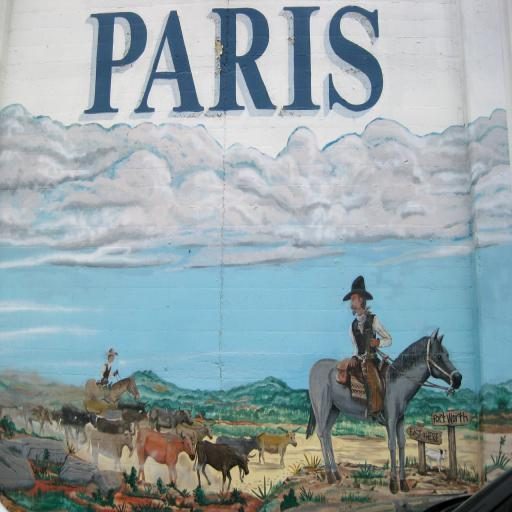horse: (308, 324, 464, 492), (84, 374, 142, 404)
